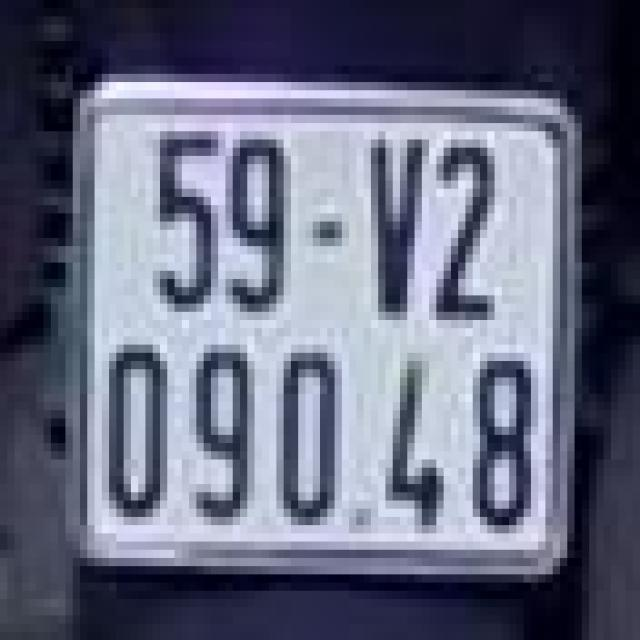0: (102, 336, 174, 534), (276, 349, 349, 529)
2: (440, 132, 513, 336)
4: (371, 348, 451, 546)
5: (146, 119, 226, 324)
8: (466, 353, 546, 541)
9: (226, 131, 298, 320), (186, 341, 258, 529)
V: (352, 123, 432, 328)
